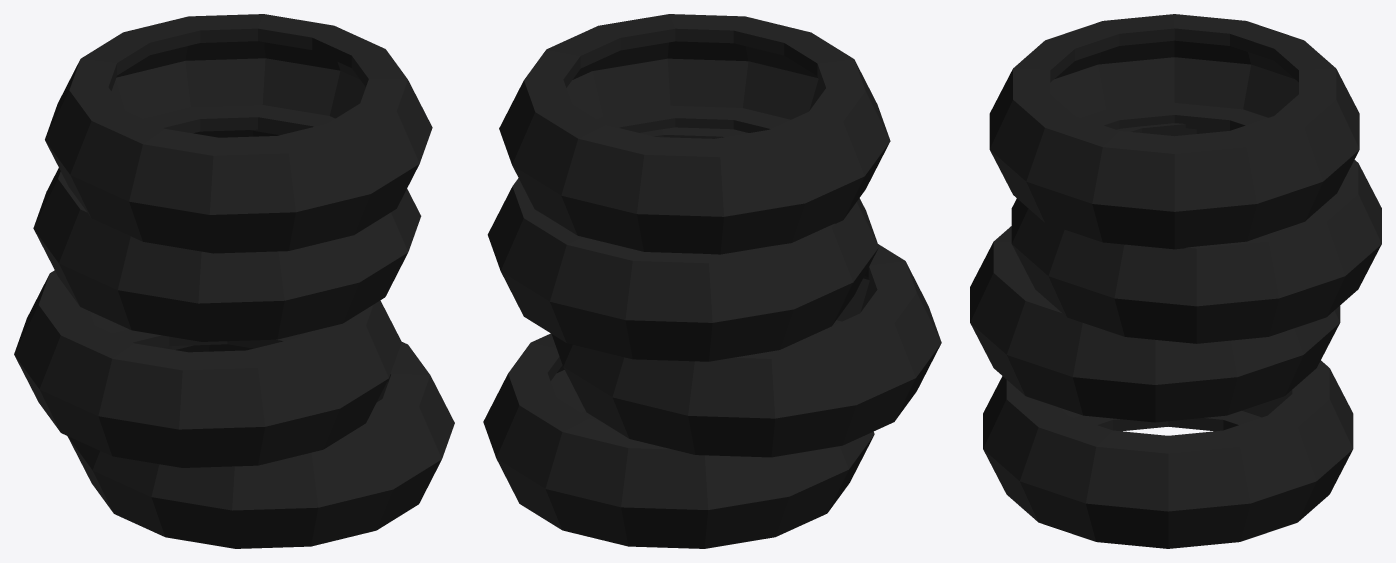
The model's file is SM_wheels_stacked.fbx.
3 views of the same model, side by side, from view 1: azimuth 30°, elevation 25°; view 2: azimuth 150°, elevation 25°; view 3: azimuth 270°, elevation 25° (orthographic). The views are drawn at different scales.
Parts seen in each view (by area): view 1: Cylinder007; view 2: Cylinder007; view 3: Cylinder007.
Part boxes in pixels (x1,y1,x2,y2): Cylinder007: (14, 14, 454, 548); Cylinder007: (483, 14, 941, 548); Cylinder007: (970, 14, 1381, 548).
Bounding box in the file's own units: 38.7 × 35.65 × 37.18.
